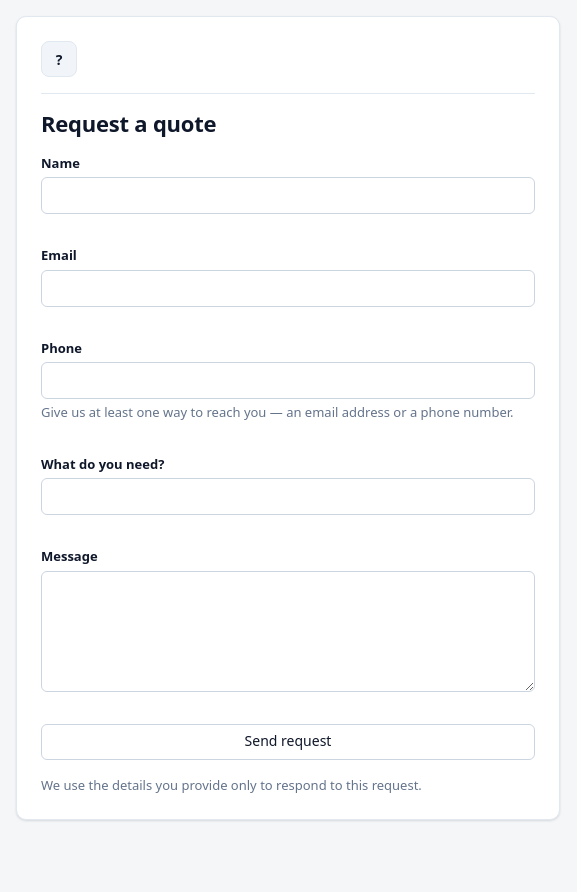
it: shows a failure message when the server rejects the request
Check: the heading "Request a quote" is shown, box [41, 108, 216, 138]
Type "pat@example.com" into the field labelled "Email".
click(288, 288); type("pat@example.com")  # box [41, 270, 535, 306]
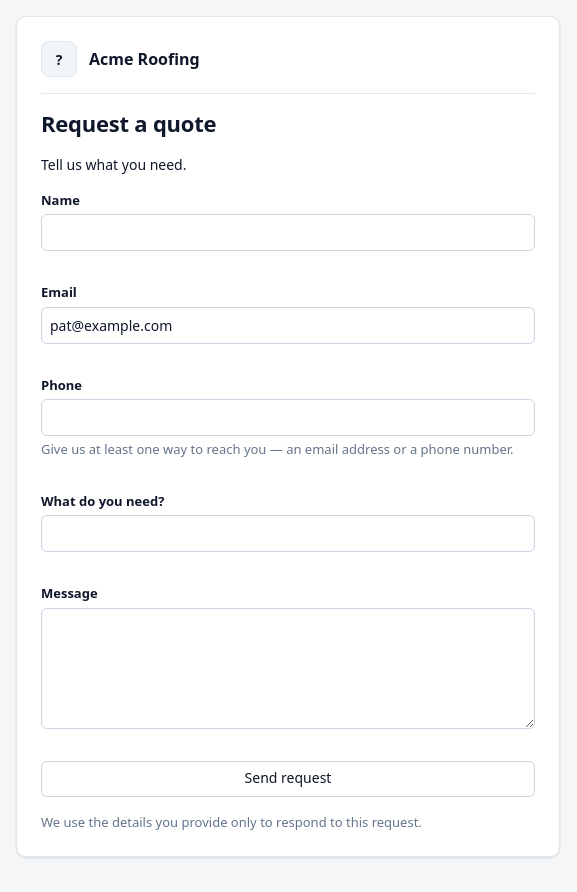
Type "Trying again" into the text box labelled "Message".
click(288, 668); type("Trying again")  # box [41, 608, 535, 728]
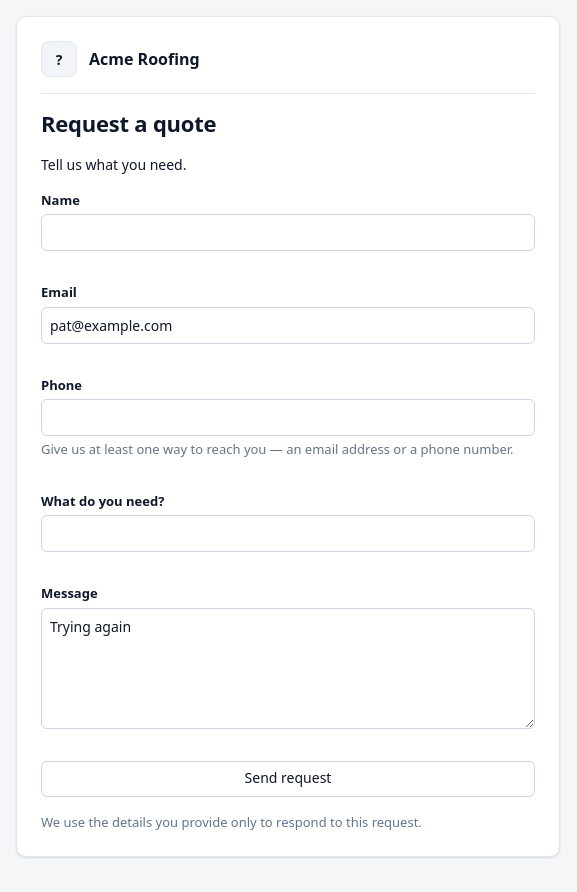
Click the button "Send request".
click(288, 778)  # box [41, 760, 535, 796]
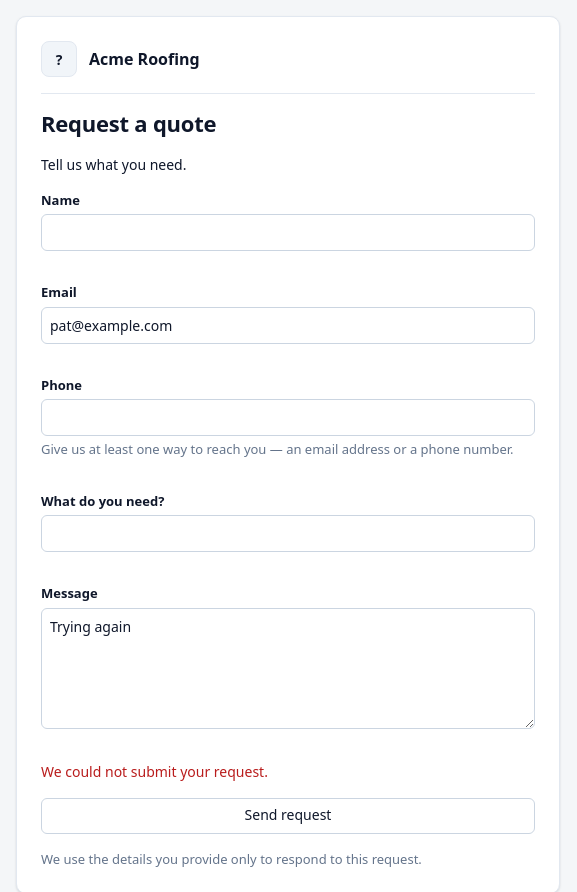
Check: the message reads "We could not submit your request.", box [41, 762, 268, 780]
